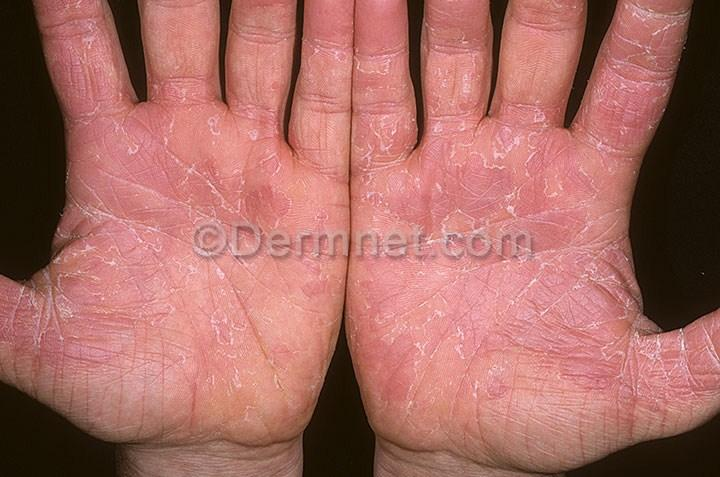Eczema: (445, 226, 537, 311), (355, 284, 426, 375), (351, 225, 444, 291), (415, 290, 488, 371), (84, 137, 174, 198), (277, 124, 343, 207), (532, 314, 602, 390), (490, 173, 571, 236), (204, 112, 280, 179), (115, 242, 178, 322), (544, 248, 611, 319), (589, 316, 652, 388), (65, 311, 136, 374), (662, 320, 720, 395), (162, 104, 235, 163), (60, 61, 124, 128), (412, 161, 482, 220), (0, 288, 66, 348), (588, 246, 639, 323), (364, 357, 430, 416), (608, 58, 665, 124), (43, 7, 109, 63), (347, 110, 409, 169), (578, 186, 632, 252), (66, 190, 119, 257), (489, 109, 550, 167), (224, 176, 288, 231), (194, 284, 250, 346), (429, 121, 488, 179), (355, 168, 414, 226), (108, 198, 168, 255), (595, 103, 649, 164), (485, 306, 534, 373), (172, 160, 230, 215), (624, 0, 676, 58), (424, 6, 479, 60), (549, 136, 606, 188), (52, 250, 99, 313), (360, 50, 407, 107), (423, 67, 477, 116), (302, 63, 347, 121), (204, 352, 257, 401), (633, 338, 679, 394), (355, 4, 405, 55), (162, 216, 213, 265), (473, 368, 526, 414), (307, 0, 353, 52), (151, 55, 206, 98), (289, 257, 339, 301), (257, 336, 306, 374), (221, 390, 268, 427), (306, 202, 348, 242), (285, 366, 328, 402)
